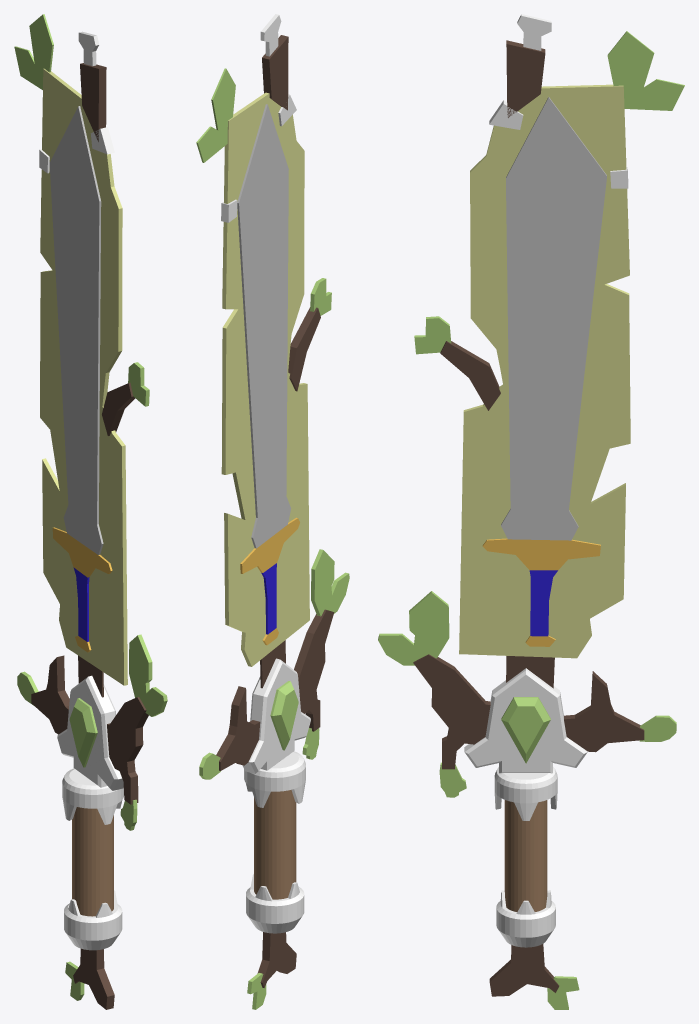
The model's file is RadiantSword.fbx.
3 renders of one model, left to right at view 1: azimuth 30°, elevation 25°; view 2: azimuth 150°, elevation 25°; view 3: azimuth 270°, elevation 25°, orthographic.
Visible parts, largest first — view 1: Sword48; view 2: Sword48; view 3: Sword48.
Boxes of the visible parts, x1,y1,x2,y2 form: Sword48: (14,14,167,1009); Sword48: (196,14,349,1009); Sword48: (378,14,684,1009).
Bounding box in the file's own units: 28.74 × 499 × 140.
